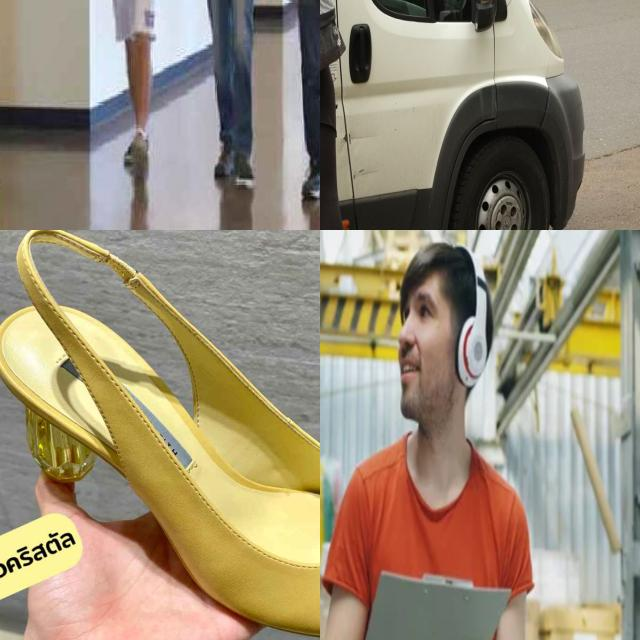Ear-protection: (401, 261, 492, 433)
No_Glasses: (402, 275, 446, 332)
Sandals: (0, 230, 320, 640)
boots: (230, 140, 263, 193), (294, 153, 320, 208)
